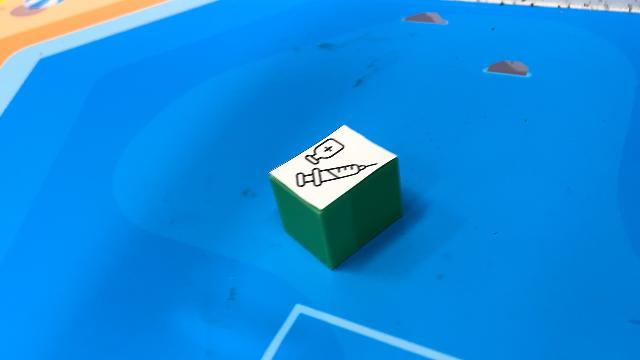syringe: (268, 125, 408, 271)
